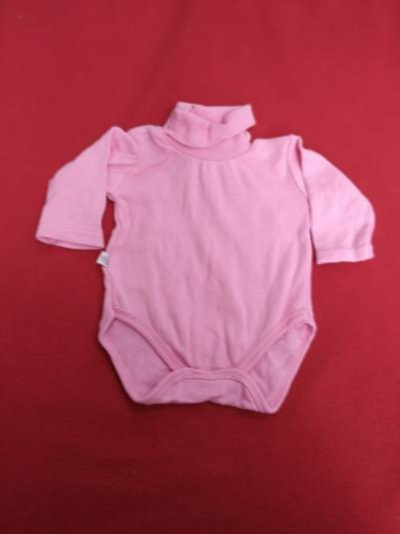Body: (44, 78, 374, 443)
